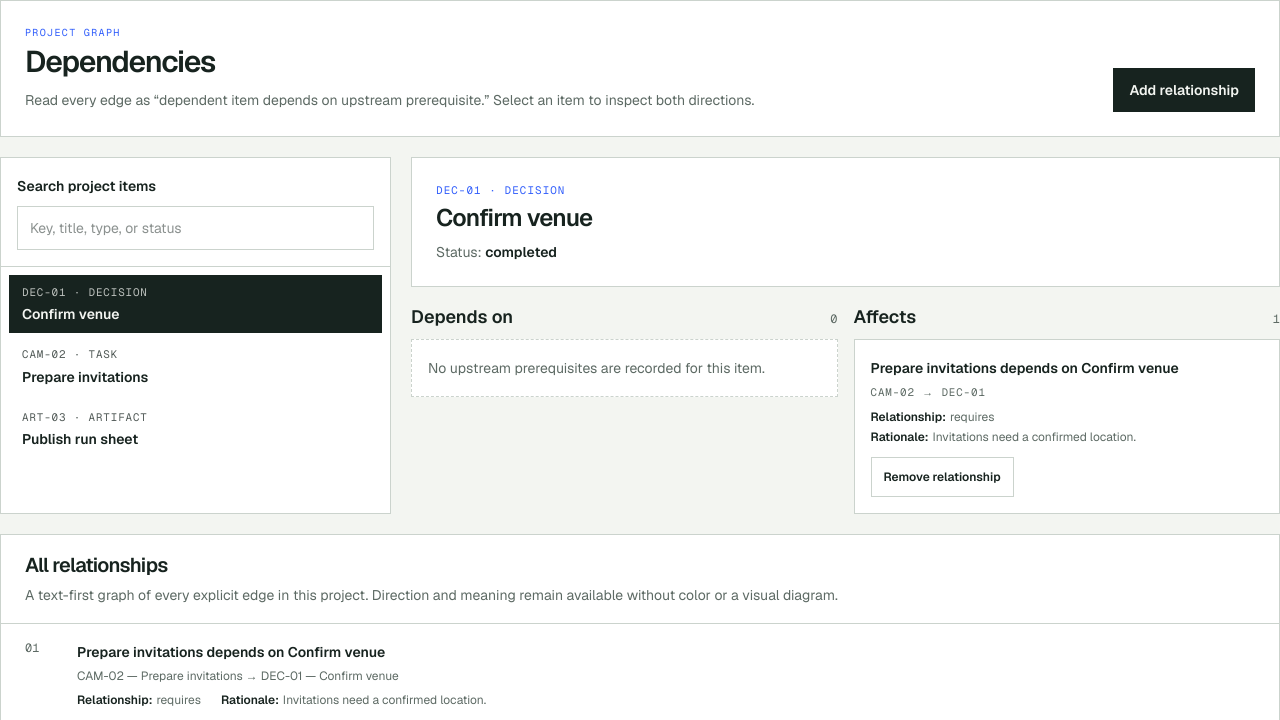
Test: DependencyView › filters the selectable item list and changes the inspected item
Type "run sheet" into the search field labelled "Search project items".
click(196, 228); type("run sheet")  # box [17,206,374,250]
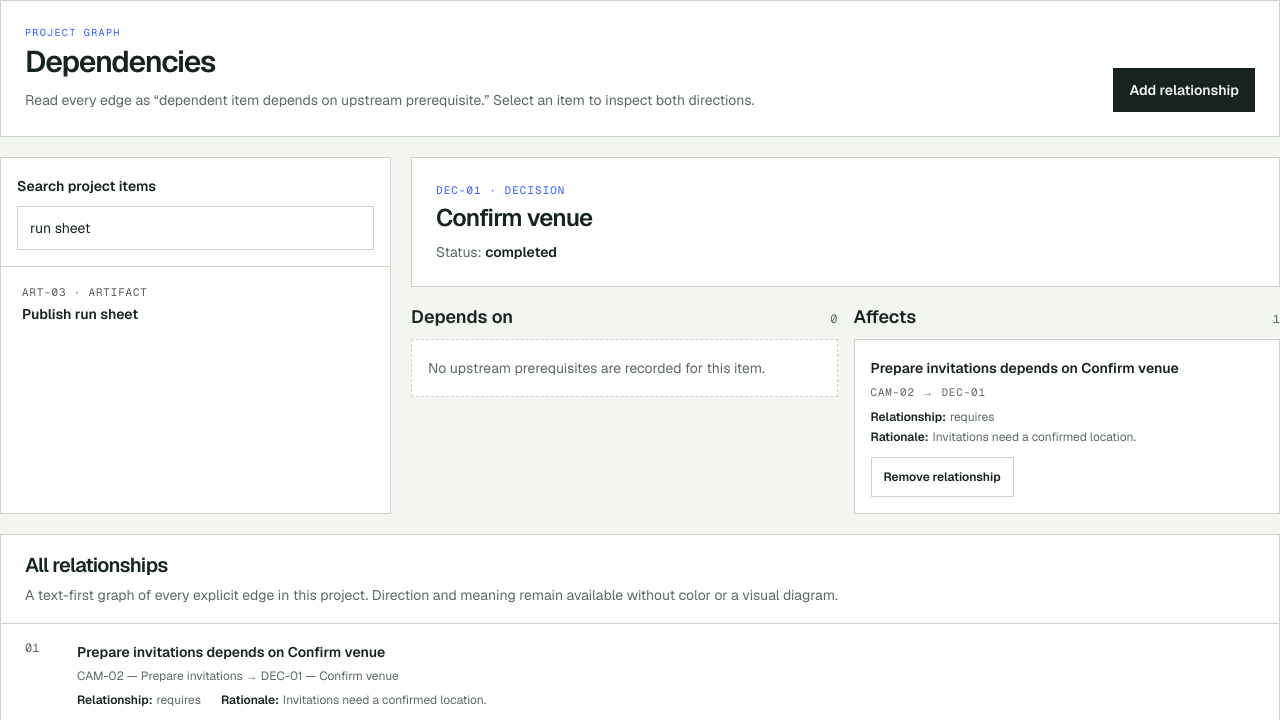
Click the button with aria-label "select art-03".
click(44, 292)  # box [9,275,382,333]
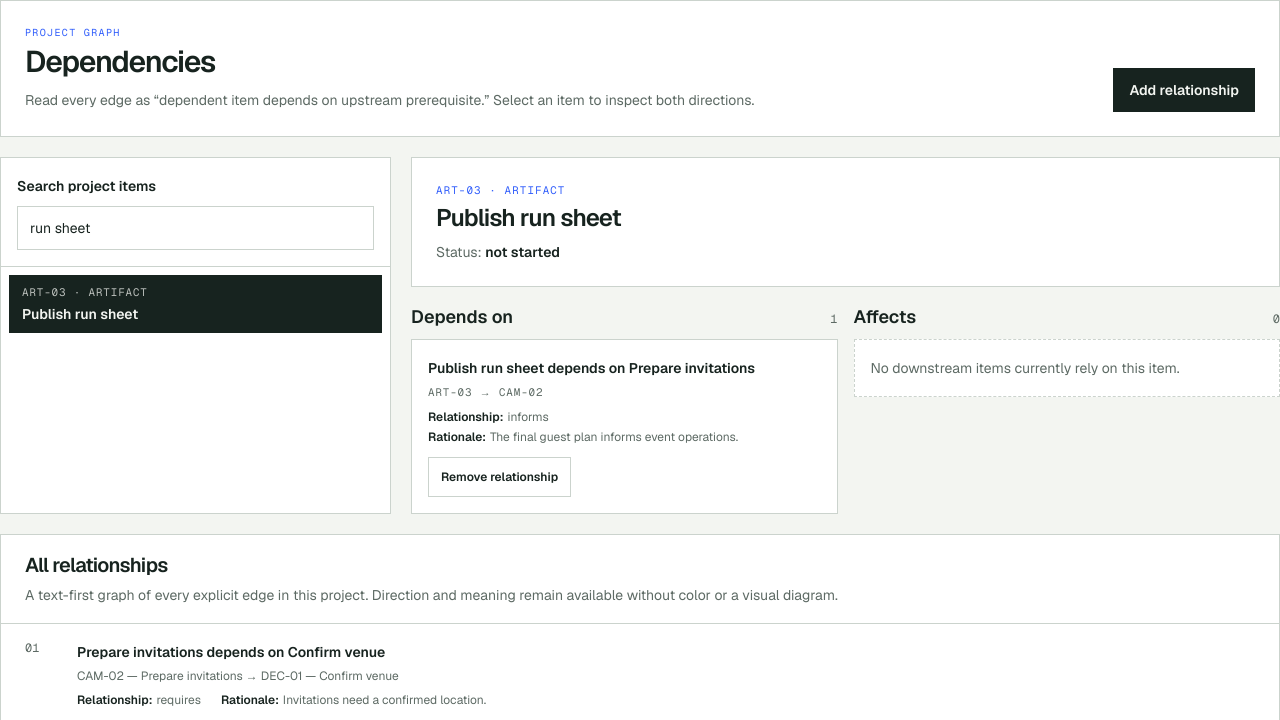
Result: the heading "Publish run sheet" is shown at [436,202,621,233]
